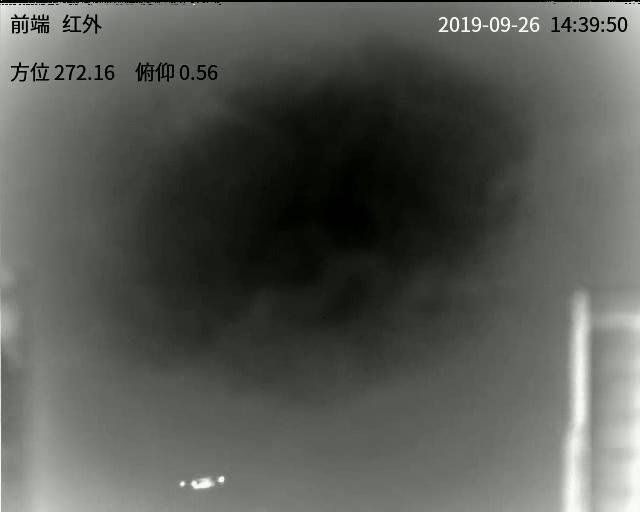DRONE: (177, 475, 225, 490)
